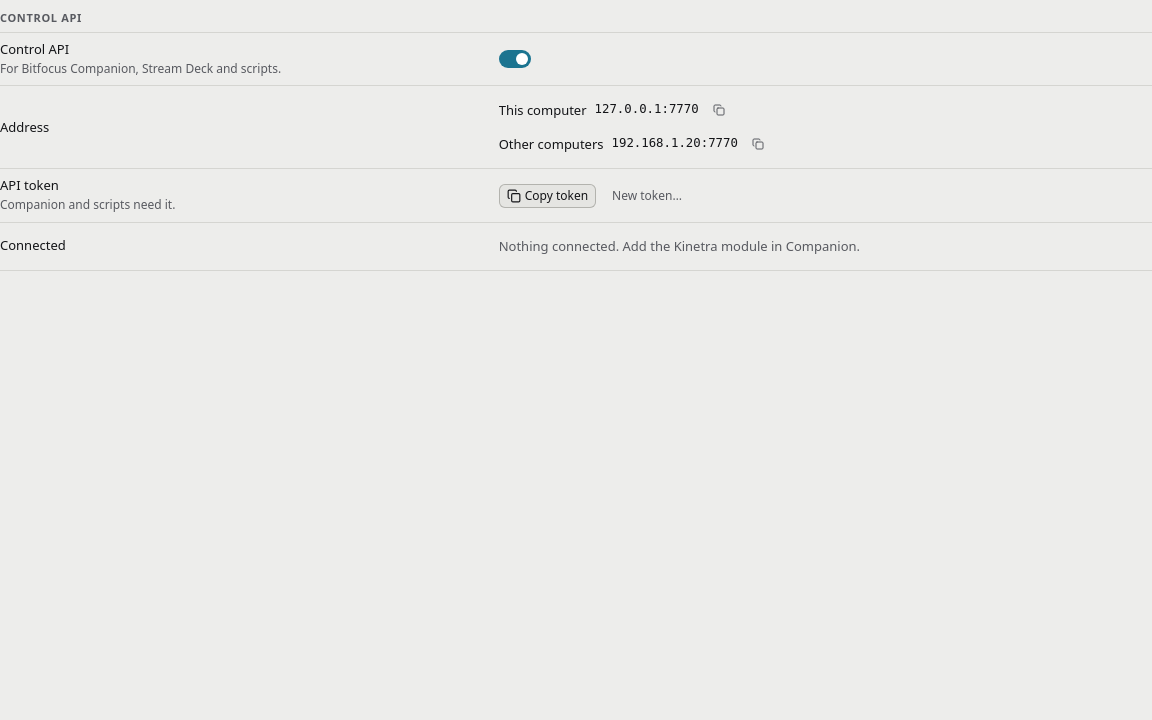
it: Control API section › a new token needs a confirm
Click the button "New token…" at [647, 196], box x1=604 y1=184 x2=690 y2=208
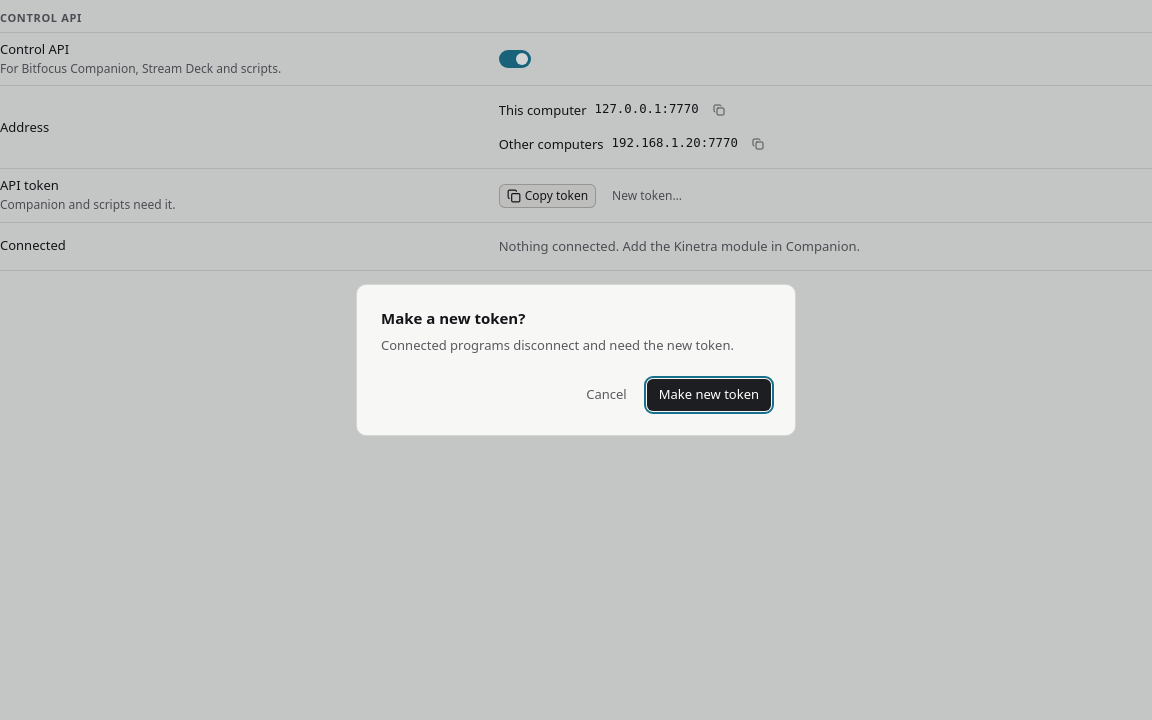
Expected: the text "Connected programs disconnect and need the new token." is shown, x1=381 y1=336 x2=771 y2=355
Click the button "Make new token" at [709, 395], box x1=647 y1=379 x2=771 y2=411
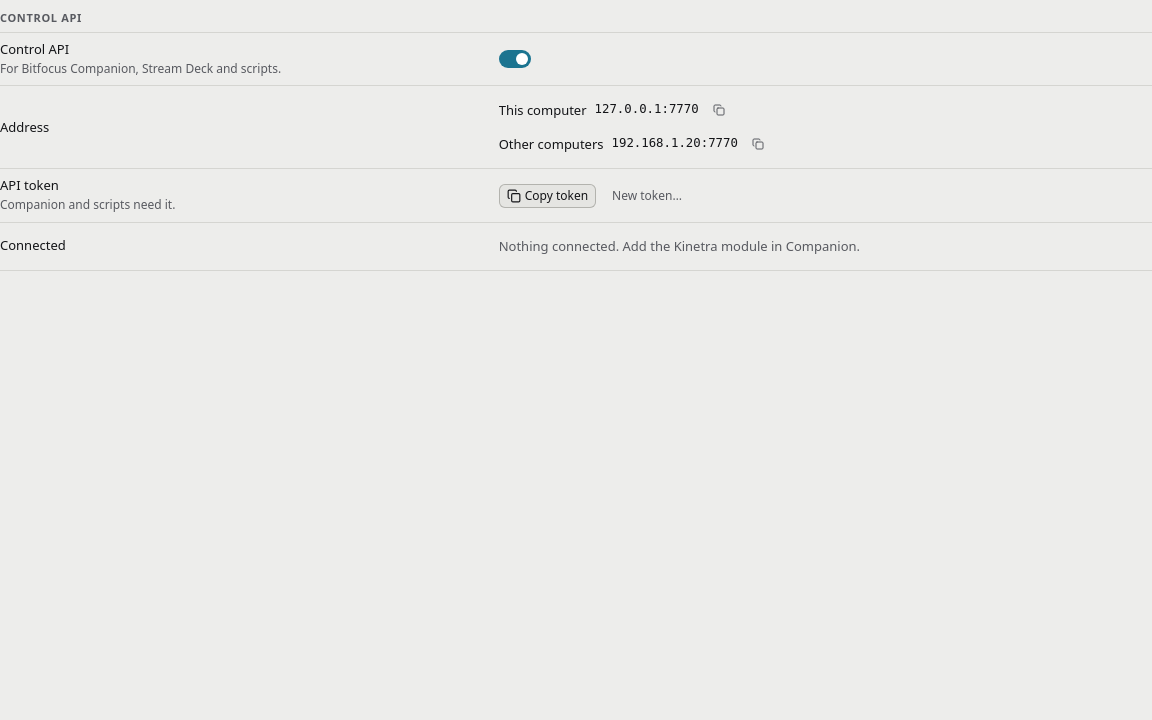
Expected: the heading "Make a new token?" is gone
